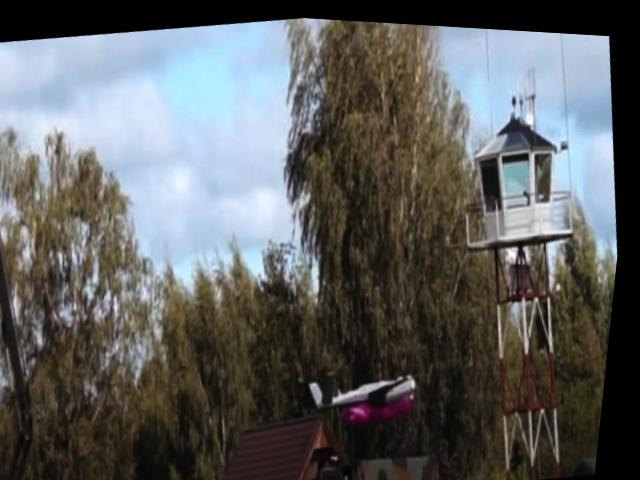iha: (314, 352, 435, 412)
